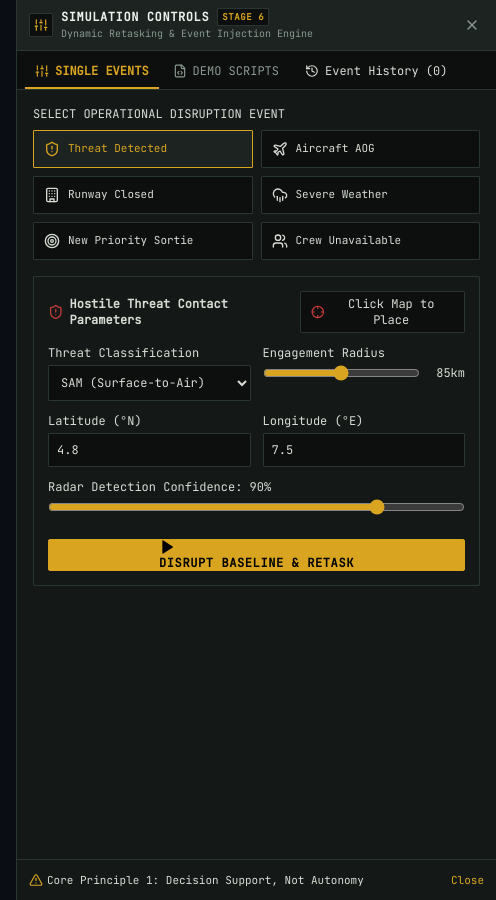
Test: ScenarioControlPanel (Stage 6: Event Injection & Demo Replay) › allows switching between single event types and shows corresponding form fields
Expected: the text "Hostile Threat Contact Parameters" is shown, top-left (48, 296), bottom-right (228, 328)
Expected: the text "Click Map to Place" is shown, top-left (348, 296), bottom-right (434, 328)
Note: Click Aircraft AOG
Click the button "Aircraft AOG".
click(370, 149)  # box top-left (260, 130), bottom-right (480, 168)
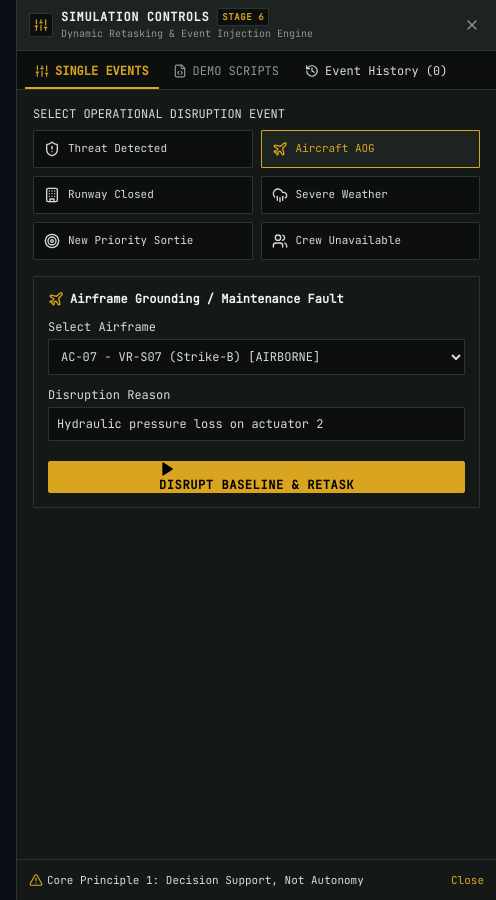
Now the text "Airframe Grounding / Maintenance Fault" is shown, box top-left (48, 291), bottom-right (344, 307)
Now the text "Select Airframe" is shown, box top-left (48, 319), bottom-right (156, 335)
Note: Click Runway Closed
Click the button "Runway Closed".
click(143, 195)  # box top-left (33, 176), bottom-right (252, 214)
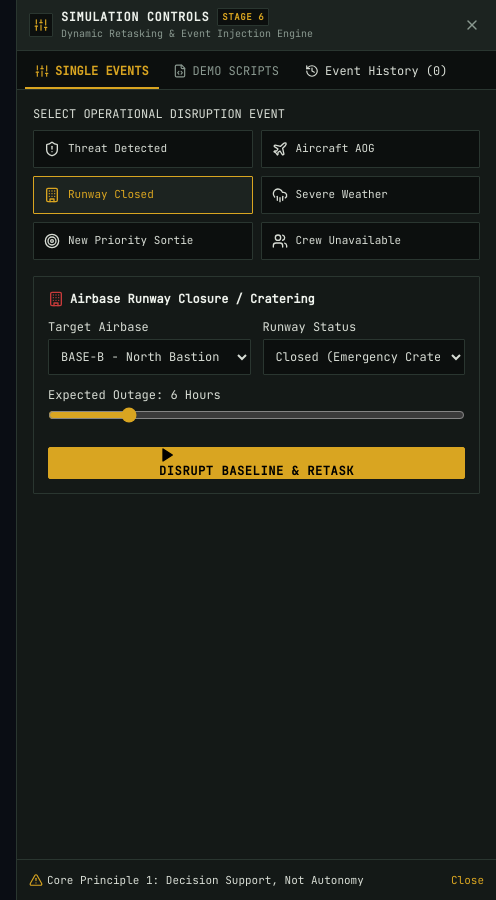
Now the text "Airbase Runway Closure / Cratering" is shown, box top-left (48, 291), bottom-right (315, 307)
Now the text "Target Airbase" is shown, box top-left (48, 319), bottom-right (149, 335)
Note: Click Severe Weather
Click the button "Severe Weather".
click(370, 195)  # box top-left (260, 176), bottom-right (480, 214)
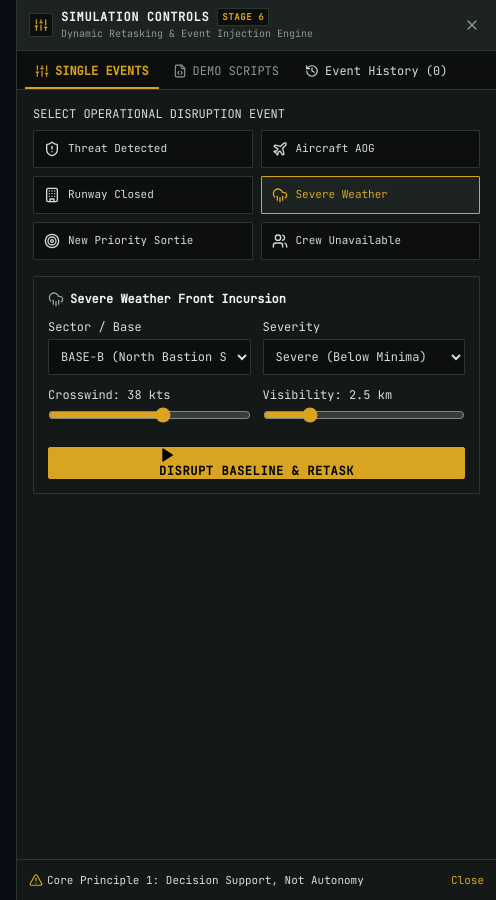
Now the text "Severe Weather Front Incursion" is shown, box top-left (48, 291), bottom-right (286, 307)
Note: Click New Priority Sortie
Click the button "New Priority Sortie".
click(143, 241)  # box top-left (33, 222), bottom-right (252, 260)
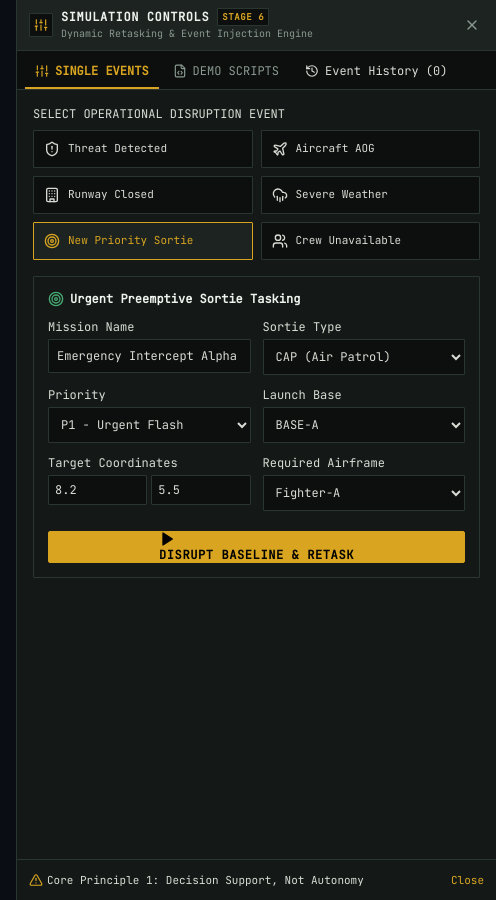
Now the text "Urgent Preemptive Sortie Tasking" is shown, box top-left (48, 291), bottom-right (300, 307)
Note: Click Crew Unavailable
Click the button "Crew Unavailable".
click(370, 241)  # box top-left (260, 222), bottom-right (480, 260)
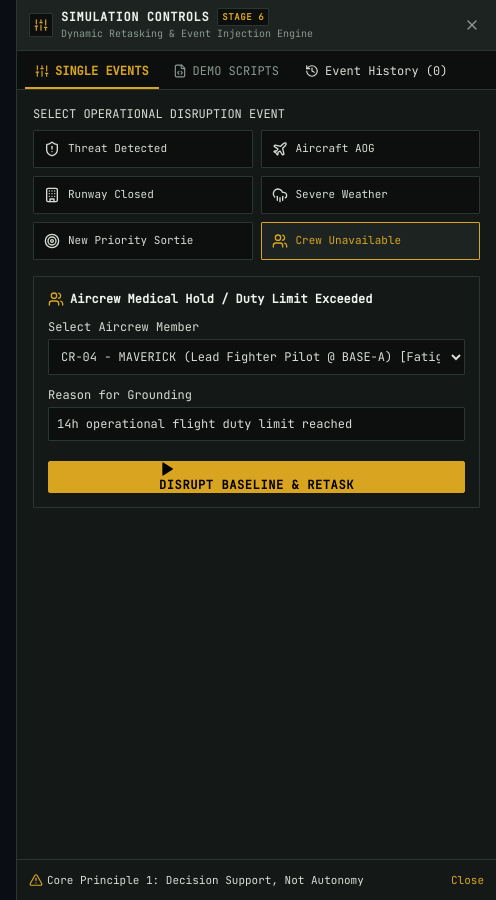
Now the text "Aircrew Medical Hold / Duty Limit Exceeded" is shown, box top-left (48, 291), bottom-right (372, 307)
